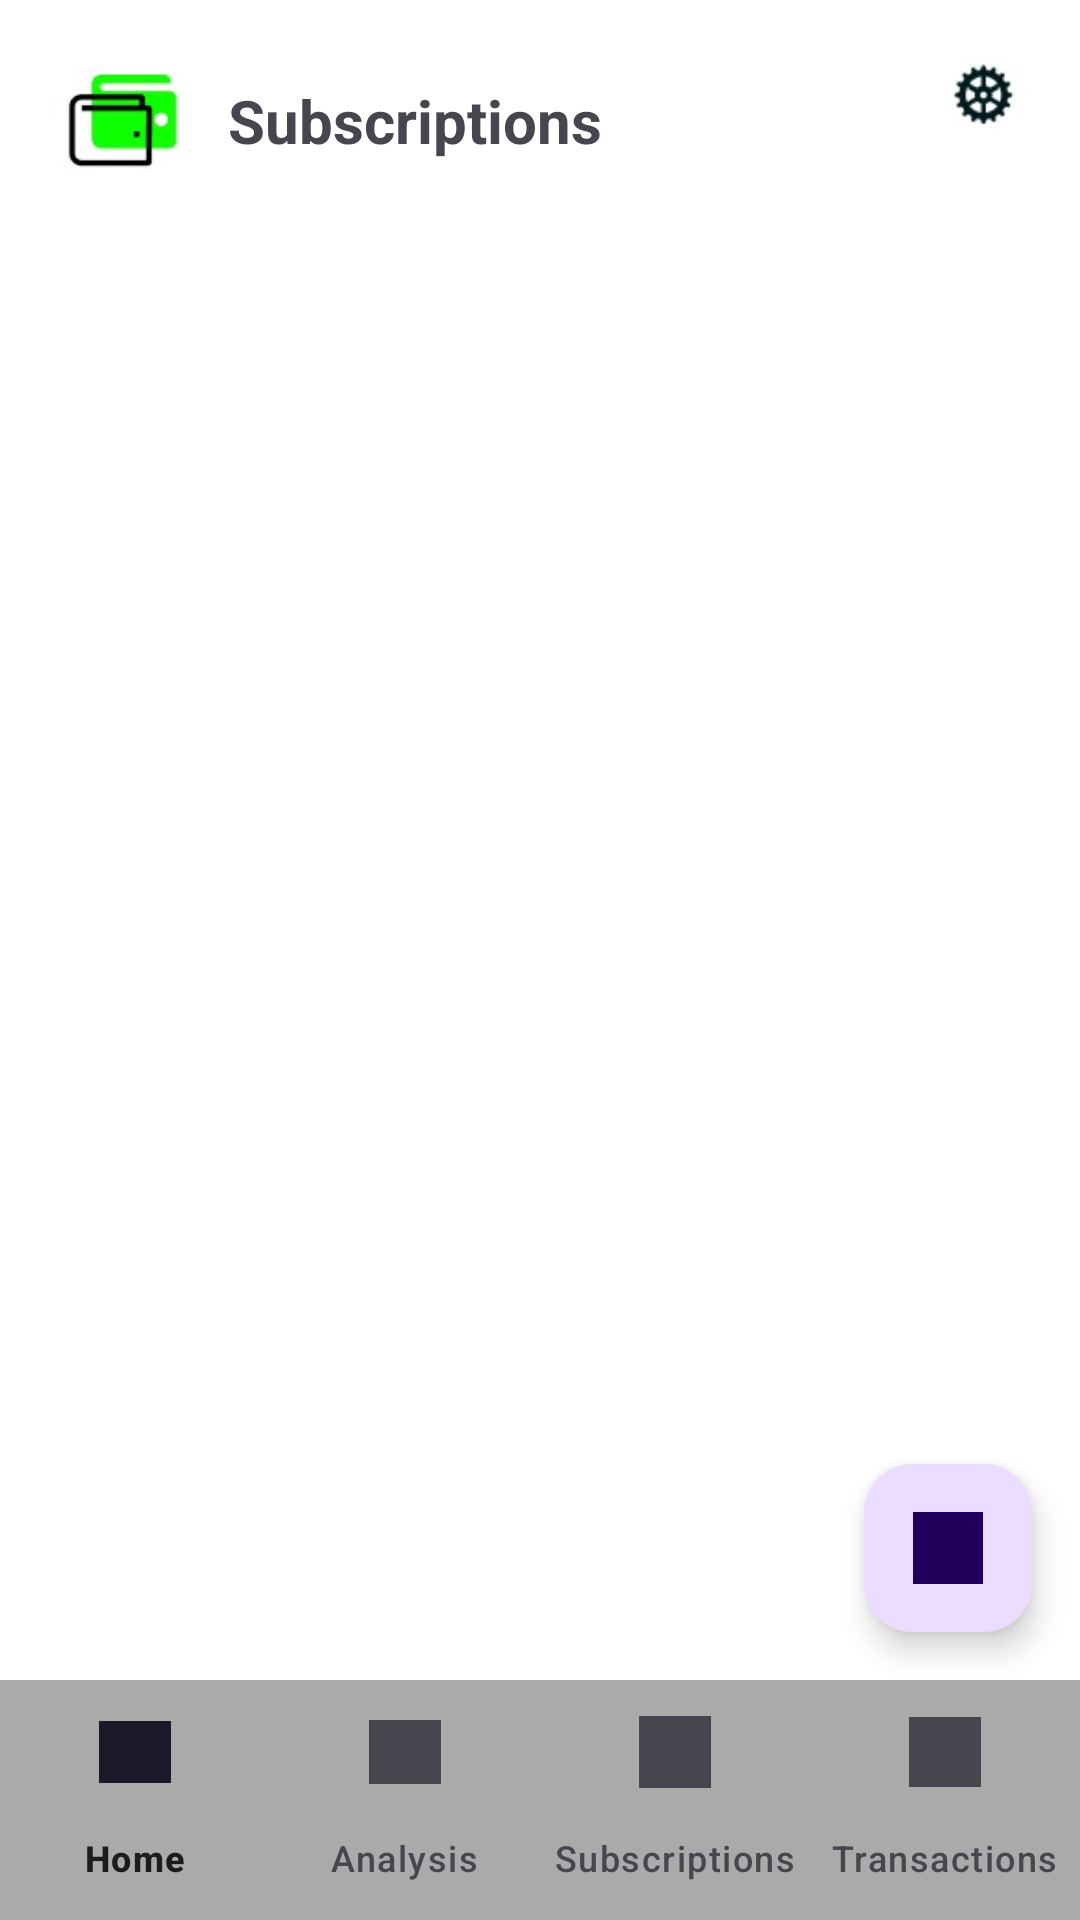

Icons on this 1080w x 1920h Android screen, each with its box as detection(x1, y1, x2, y2):
settings: detection(954, 64, 1014, 125)
wallet: detection(68, 73, 178, 167)
